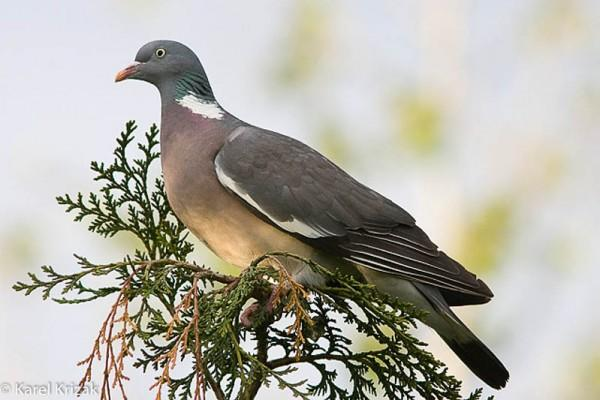Flying Rat: (113, 36, 520, 378)
